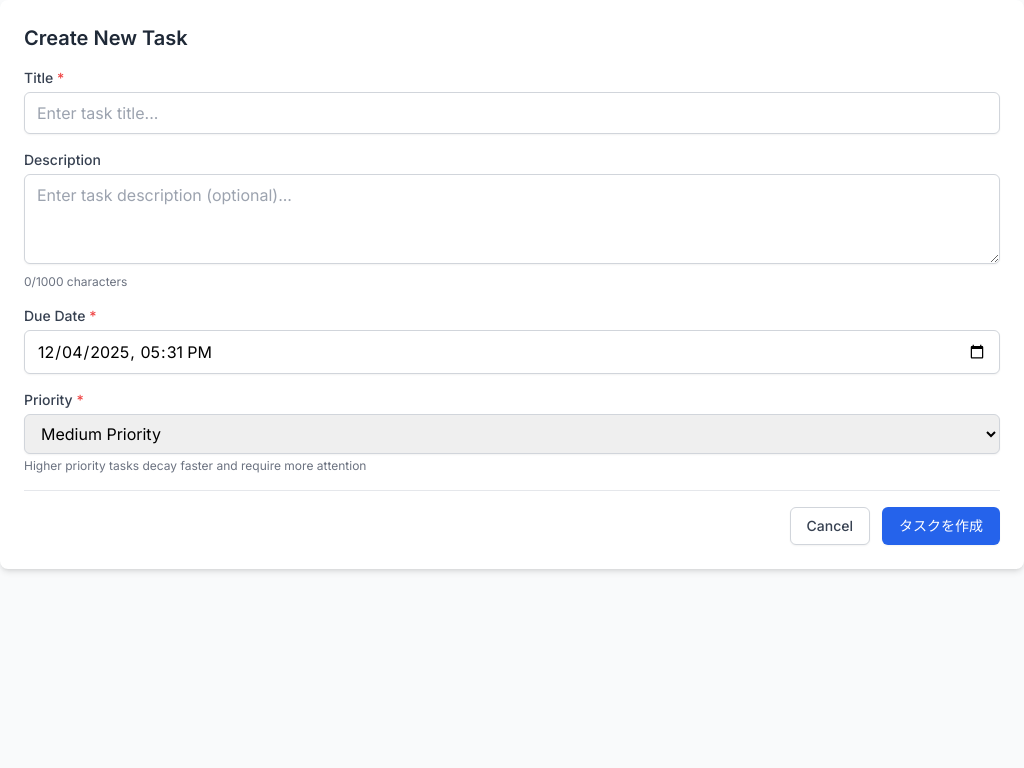
TaskForm › shows character count for description field
This screenshot has width=1024, height=768.
Check: the text "0/1000 characters" is shown, box [24,274,127,289]
Type "Test description" into the text box labelled "Description" at (512, 219), box [24,174,1000,264]
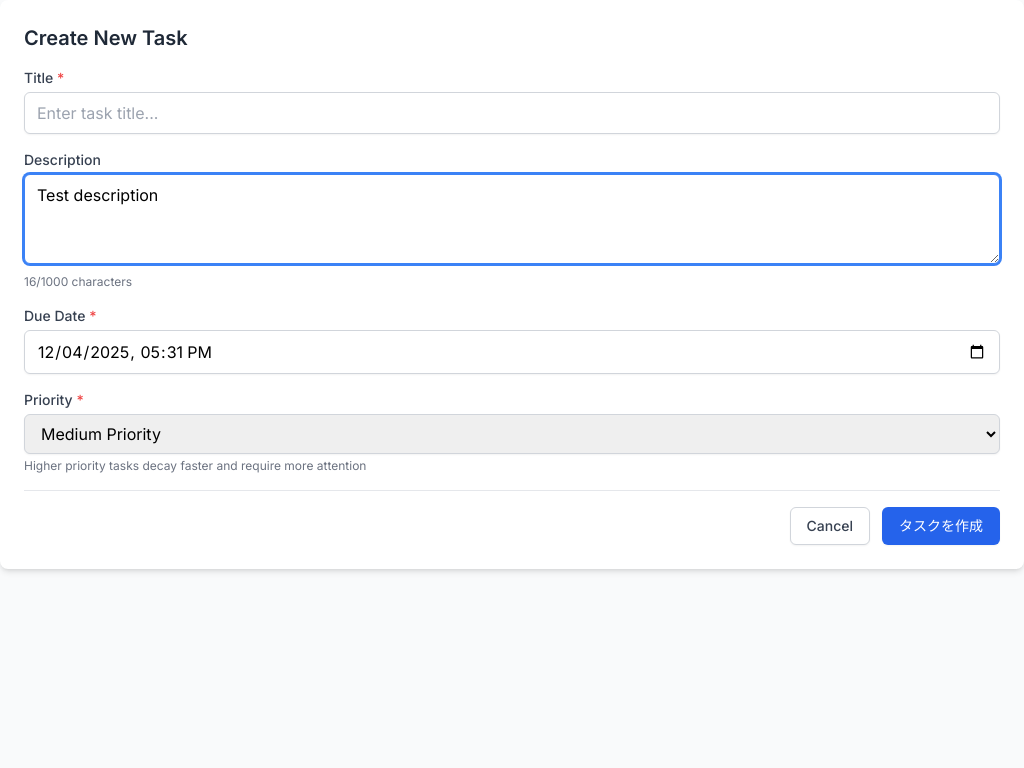
Check: the text "16/1000 characters" is shown, box [24,274,132,289]
